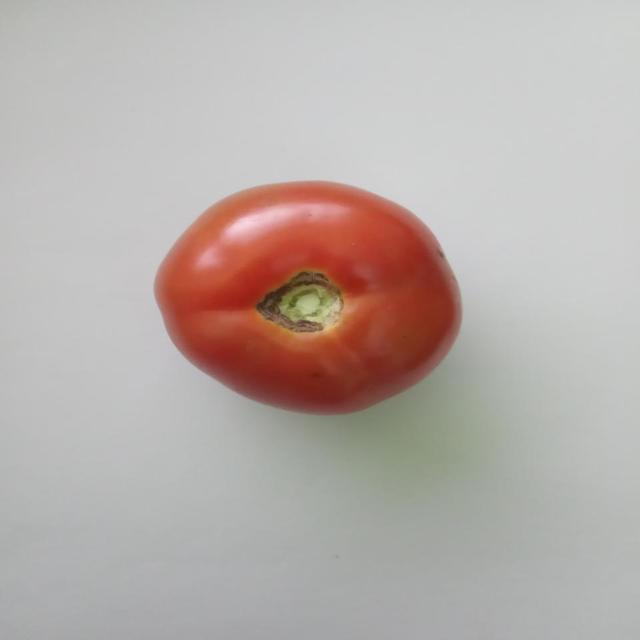Healthy Fruit: (96, 114, 316, 280)
